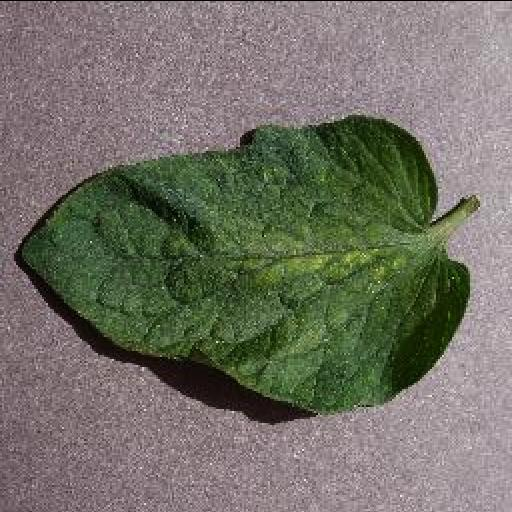disease_tomato: (18, 114, 470, 416)
